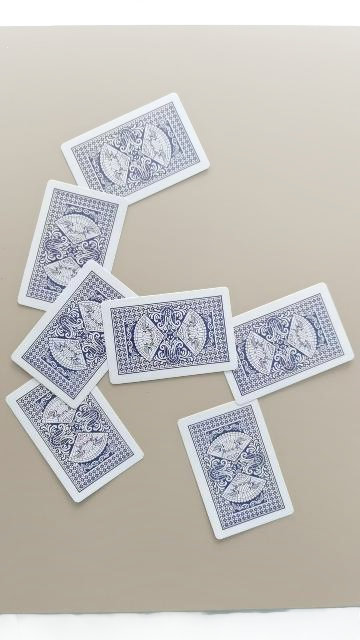card: (11, 260, 135, 409), (6, 379, 144, 502), (61, 94, 209, 203), (178, 400, 294, 539), (225, 282, 354, 404), (18, 180, 128, 310), (101, 288, 238, 384)
